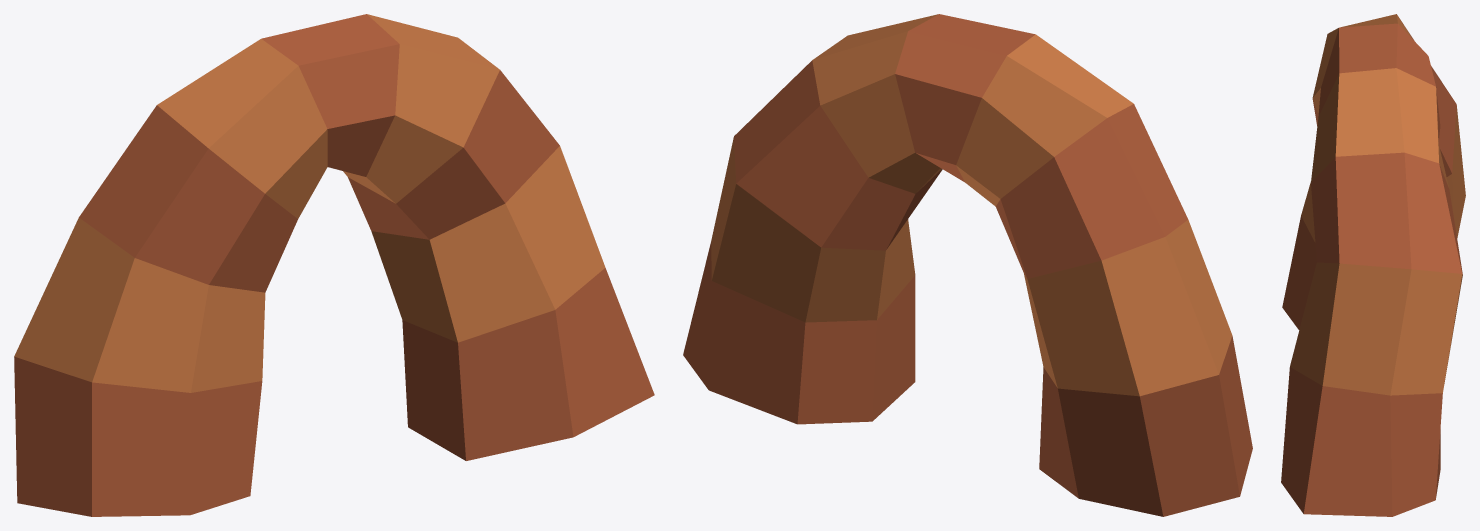
The model's file is SM_RockArch.fbx.
3 renders of one model, left to right at view 1: azimuth 30°, elevation 25°; view 2: azimuth 150°, elevation 25°; view 3: azimuth 270°, elevation 25°, orthographic. The views are drawn at different scales.
Parts seen in each view (by area): view 1: RockArch; view 2: RockArch; view 3: RockArch.
Boxes of the visible parts, x1,y1,x2,y2 form: RockArch: (14, 14, 654, 516); RockArch: (683, 14, 1252, 516); RockArch: (1281, 14, 1465, 516).
Size of the model in its own units: 2449 by 768 by 1699.
